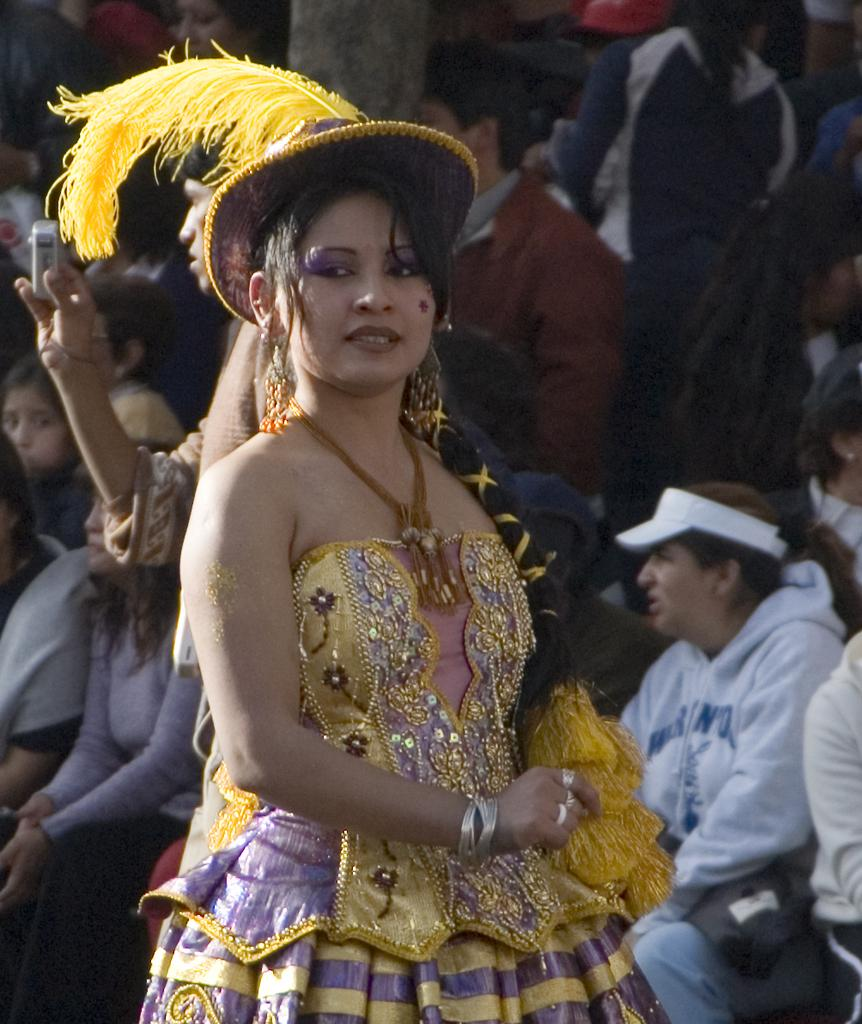Hat: (201, 108, 485, 328)
